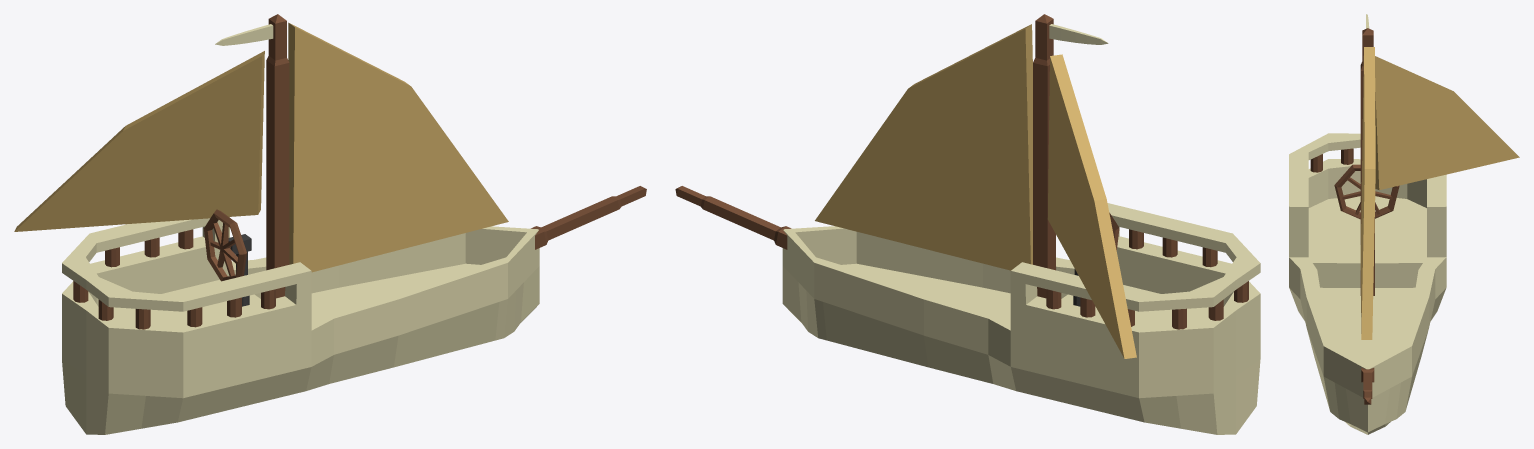
The model's file is Boat.fbx.
3 views of the same model, side by side, from view 1: azimuth 30°, elevation 25°; view 2: azimuth 150°, elevation 25°; view 3: azimuth 270°, elevation 25° (orthographic). The views are drawn at different scales.
Parts seen in each view (by area): view 1: Cube, Cube.003, Cube.004, Cube.002, Cylinder, Cube.001, Cube.005; view 2: Cube, Cube.003, Cube.004, Cube.002, Cube.001, Cube.005; view 3: Cube, Cube.004, Cube.003, Cylinder, Cube.002, Cube.001.
Part boxes in pixels (x1,y1,x2,y2): Cube: (62, 217, 539, 434); Cube.003: (288, 22, 508, 272); Cube.004: (14, 51, 264, 231); Cube.002: (266, 14, 289, 298); Cylinder: (203, 209, 251, 306); Cube.001: (531, 186, 646, 249); Cube.005: (215, 24, 273, 45); Cube: (782, 203, 1260, 434); Cube.003: (815, 24, 1032, 270); Cube.004: (1047, 54, 1136, 358); Cube.002: (1033, 14, 1055, 298); Cube.001: (675, 186, 791, 249); Cube.005: (1049, 24, 1108, 44); Cube: (1289, 133, 1446, 434); Cube.004: (1375, 56, 1519, 190); Cube.003: (1360, 47, 1375, 339); Cylinder: (1334, 164, 1399, 219); Cube.002: (1360, 28, 1374, 295); Cube.001: (1361, 367, 1374, 404).
Bounding box in the file's own units: 1006 × 640 × 426.
